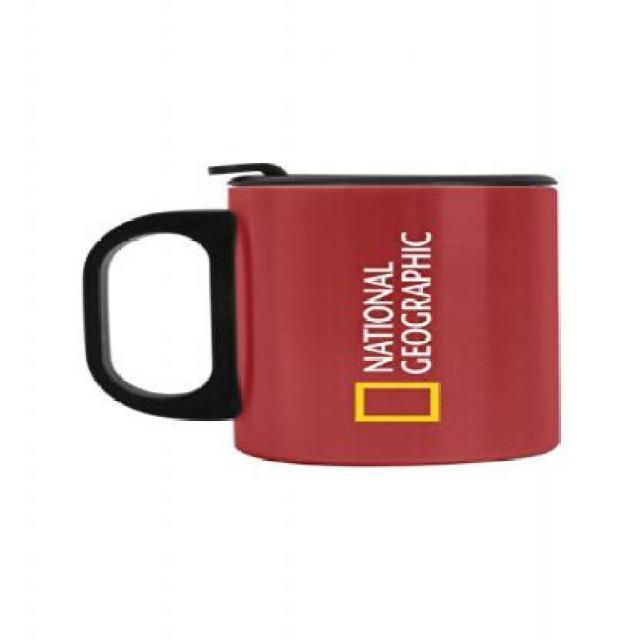taza: (81, 160, 564, 470)
